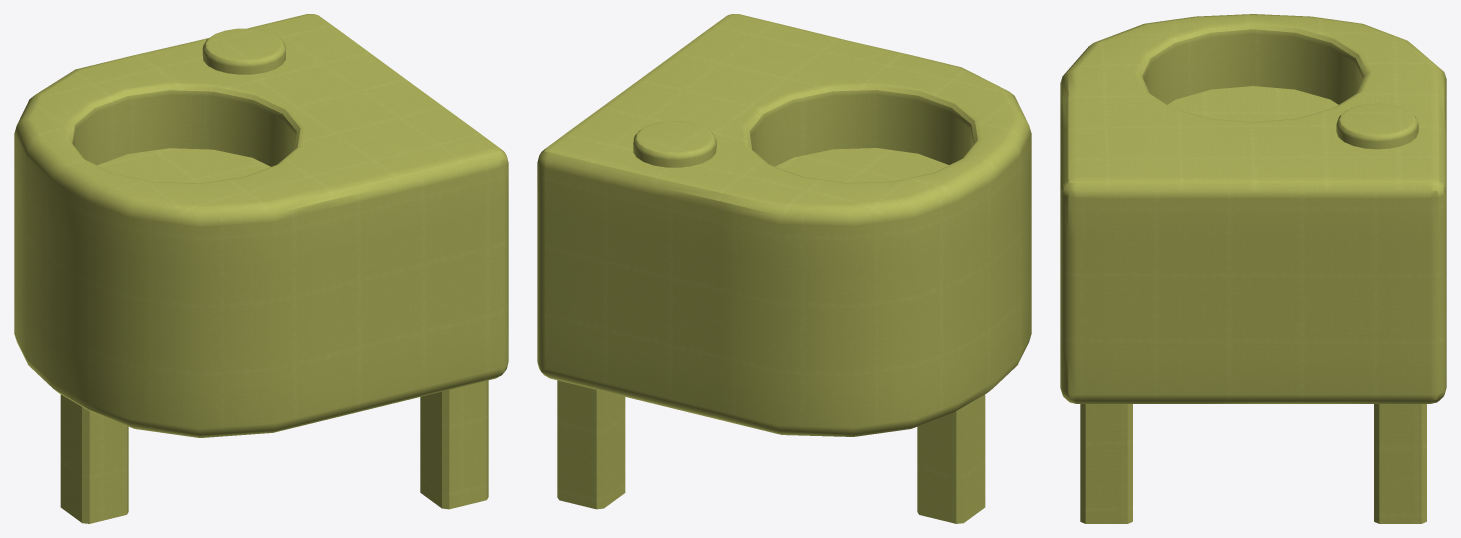
The model's file is PBR - Metallic Roughness Alpha-blend.glb.
3 renders of one model, left to right at view 1: azimuth 30°, elevation 25°; view 2: azimuth 150°, elevation 25°; view 3: azimuth 270°, elevation 25°, orthographic. The views are drawn at different scales.
Visible parts, largest first — view 1: pCube6; view 2: pCube6; view 3: pCube6.
Boxes of the visible parts, x1=… form: pCube6: x1=14, y1=14, x2=508, y2=523; pCube6: x1=537, y1=14, x2=1031, y2=523; pCube6: x1=1060, y1=14, x2=1446, y2=523.
Size of the model in its own units: 0.033 by 0.0318 by 0.0309.
Materials: 1 (1 with a texture image).
